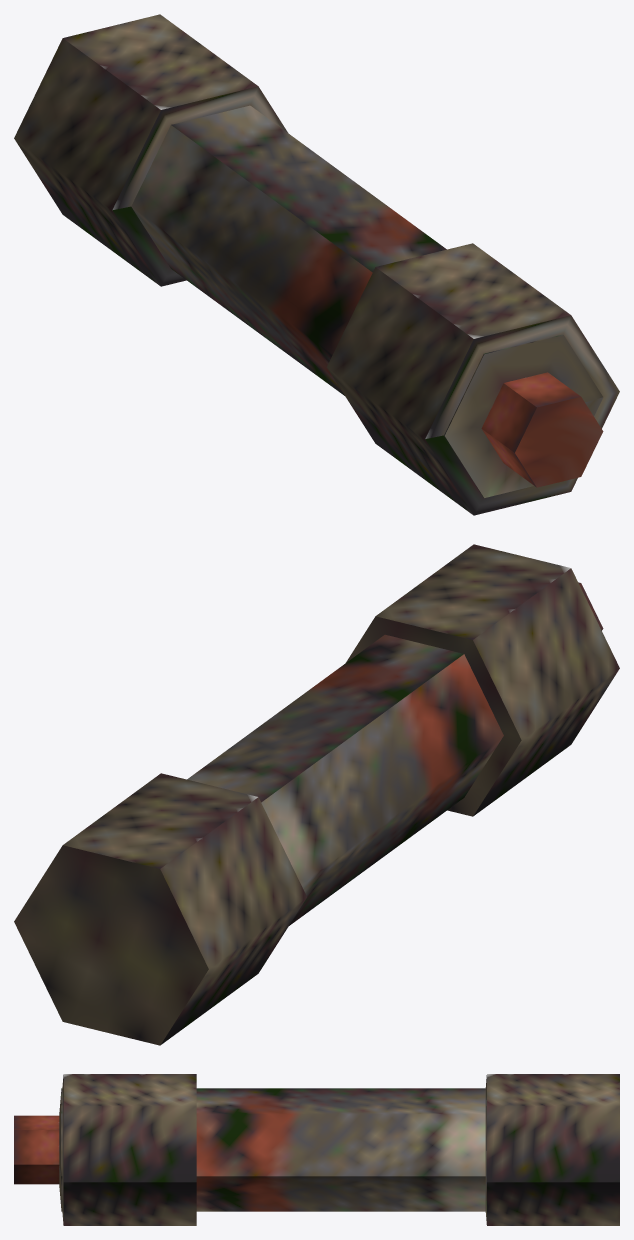
The model's file is switch.obj.
The picture shows the model from 3 angles, top to bottom: view 1: azimuth 30°, elevation 25°; view 2: azimuth 150°, elevation 25°; view 3: azimuth 270°, elevation 25°; orthographic projection. The views are drawn at different scales.
Visible parts, largest first — view 1: cylinder1; view 2: cylinder1; view 3: cylinder1.
Part boxes in pixels (box(x1,y1,x2,y2)): cylinder1: box(14, 14, 619, 515); cylinder1: box(14, 544, 619, 1045); cylinder1: box(14, 1074, 619, 1225).
Bounding box in the file's own units: 54.19 × 46.93 × 216.
